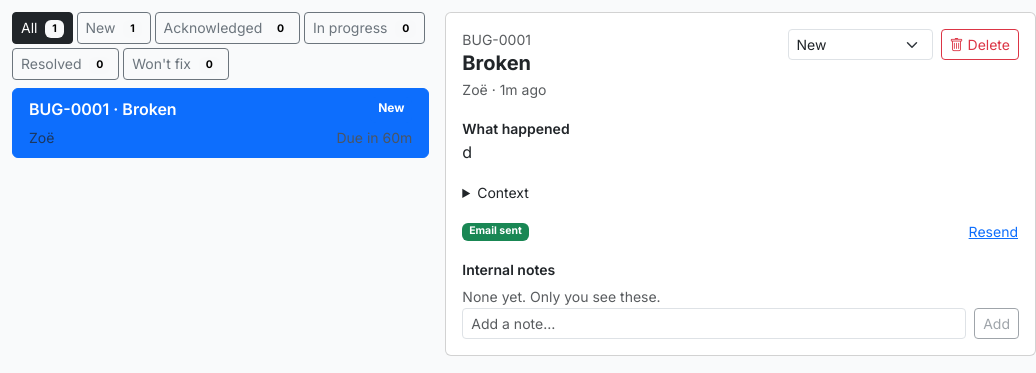
Test: superadmin inbox › each inbox asks only for its own type, and a status change shows in the list
The image size is (1036, 373).
Check: the element with test id "report-detail" is shown, box x1=462 y1=29 x2=1019 y2=339
Select "Resolved" in the dropdown with test id "report-status-select" at (860, 44), box x1=788 y1=29 x2=932 y2=60
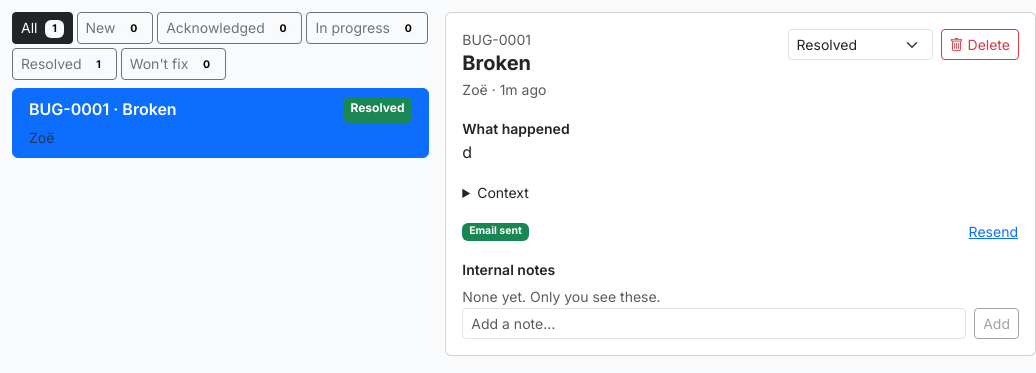
Check: the element with test id "inbox-bug" shows "Resolved", box x1=12 y1=88 x2=429 y2=158
